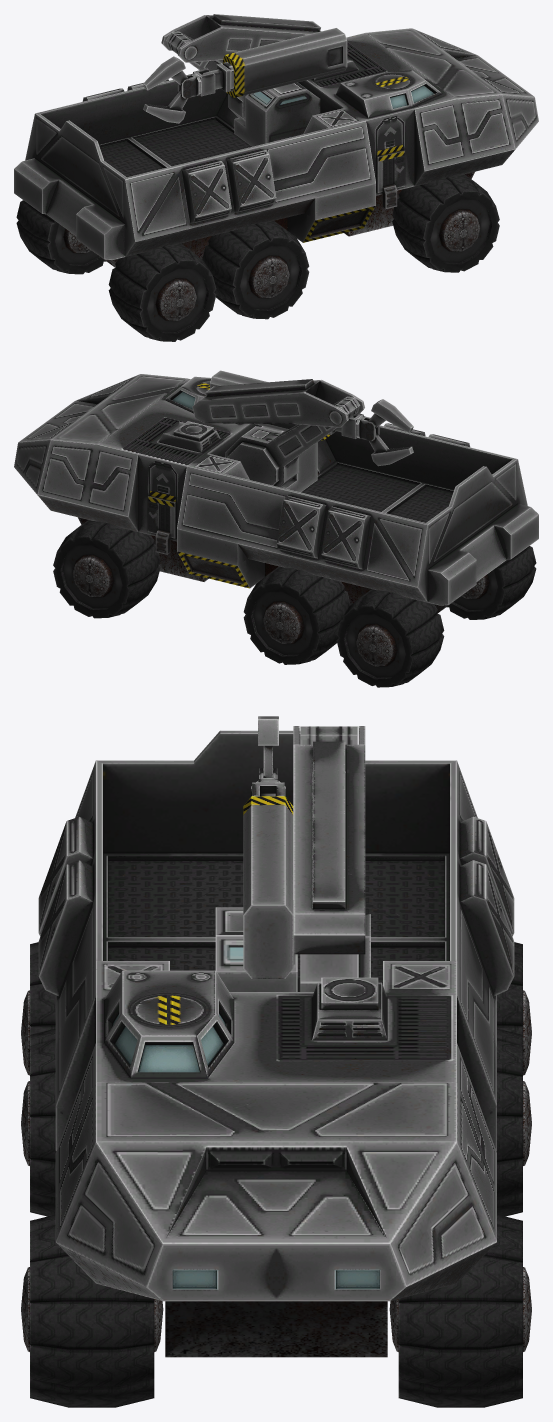
File: Salvager.FBX
The picture shows the model from 3 angles, top to bottom: view 1: azimuth 30°, elevation 25°; view 2: azimuth 150°, elevation 25°; view 3: azimuth 270°, elevation 25°; orthographic projection. The views are drawn at different scales.
Parts seen in each view (by area): view 1: base, wheel6, wheel4, wheel5, crane_sleeve, crane_arm1, crane_turret, wheel3, crane_base, claw1, claw2, crane_arm2 (+2 smaller); view 2: base, wheel3, wheel1, wheel2, crane_arm1, crane_base, wheel6, crane_turret, claw1, crane_sleeve, claw2, crane_wrist2; view 3: base, wheel1, wheel4, crane_arm1, crane_sleeve, wheel2, wheel5, crane_turret, crane_base, wheel3, wheel6, claw1.
Boxes of the visible parts, x1,y1,x2,y2 form: base: (14,28,538,267); wheel6: (108,243,216,341); wheel4: (392,174,499,272); wheel5: (202,221,309,319); crane_sleeve: (223,28,347,97); crane_arm1: (161,14,321,62); crane_turret: (234,82,320,146); wheel3: (16,200,106,274); crane_base: (166,31,246,121); claw1: (143,56,187,90); claw2: (143,90,188,123); crane_arm2: (202,62,233,92); base: (14,374,538,613); wheel3: (336,589,444,687); wheel1: (53,520,160,618); wheel2: (243,566,350,664); crane_arm1: (192,379,364,427); crane_base: (225,396,360,487); wheel6: (446,546,536,619); crane_turret: (257,425,317,492); claw1: (369,399,413,432); crane_sleeve: (210,370,330,440); claw2: (369,432,413,466); crane_wrist2: (355,416,379,441); base: (38,730,514,1357); wheel1: (389,1214,531,1407); wheel4: (21,1214,163,1407); crane_arm1: (293,726,365,954); crane_sleeve: (243,796,293,978); wheel2: (496,1028,531,1216); wheel5: (21,1028,56,1216); crane_turret: (215,907,300,991); crane_base: (300,726,370,991); wheel3: (497,942,531,1075); wheel6: (21,942,55,1075); claw1: (258,716,278,777).
Bounding box in the file's own units: 50.42 × 26.47 × 24.94.
Materials: 1 (1 with a texture image).
